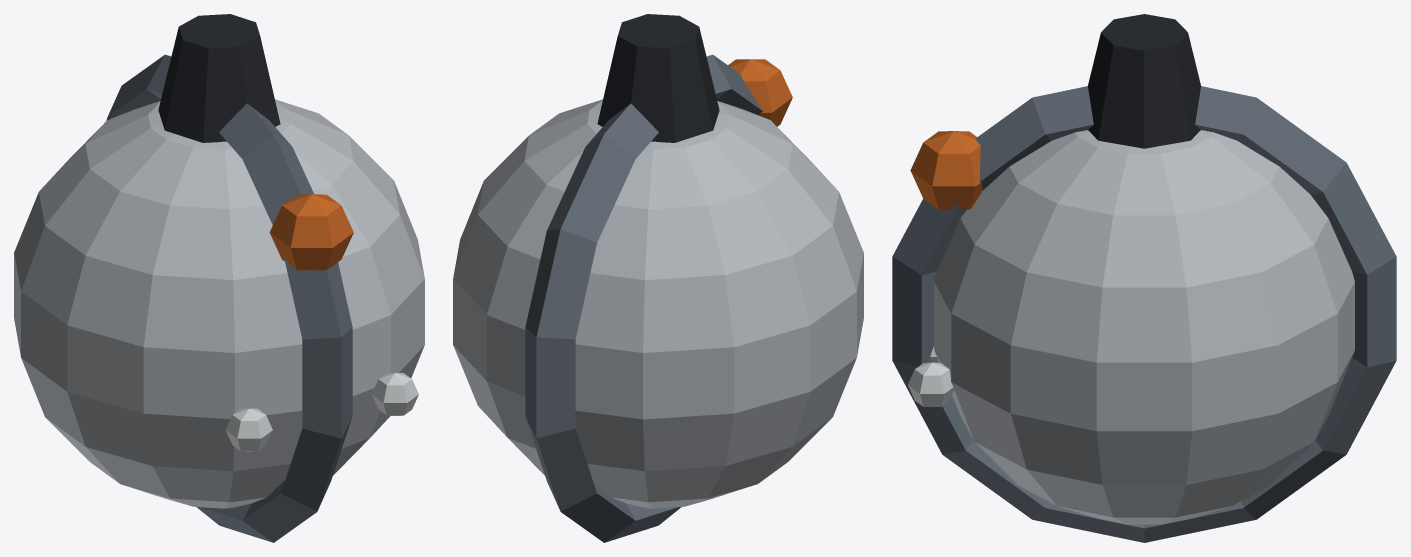
File: thermal-detonator.glb
The picture shows the model from 3 angles, left to right: view 1: azimuth 30°, elevation 25°; view 2: azimuth 150°, elevation 25°; view 3: azimuth 270°, elevation 25°; orthographic projection. The views are drawn at different scales.
Visible parts, largest first — view 1: m; view 2: m; view 3: m.
Part boxes in pixels (box(x1,y1,x2,y2)): m: box(14, 14, 424, 542); m: box(453, 14, 863, 542); m: box(892, 14, 1396, 542).
Size of the model in its own units: 0.0742 by 0.1 by 0.0895.
